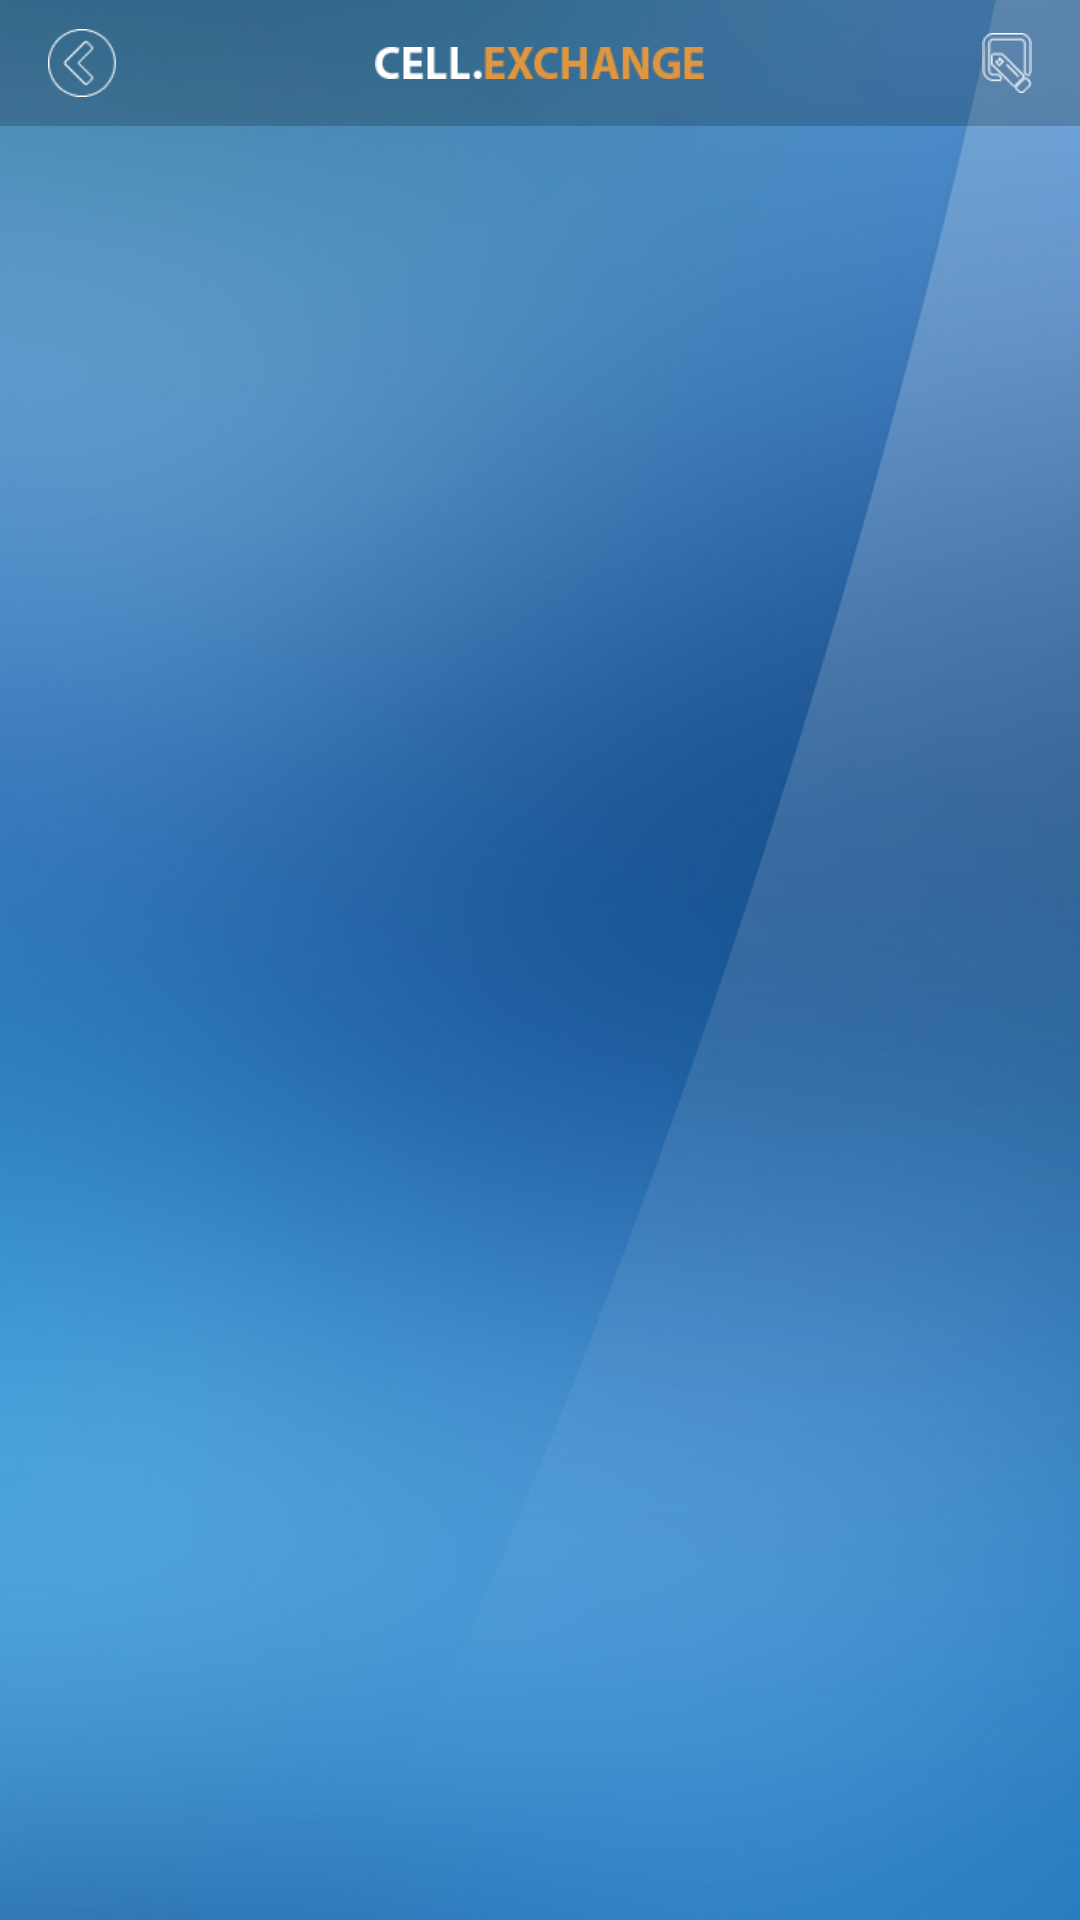

Screen size 1080w x 1920h. Icon name, then its box in pixels as (left=x1, top=y1, right=x2, bottom=y2):
back: (left=48, top=29, right=116, bottom=97)
edit: (left=982, top=33, right=1032, bottom=93)
